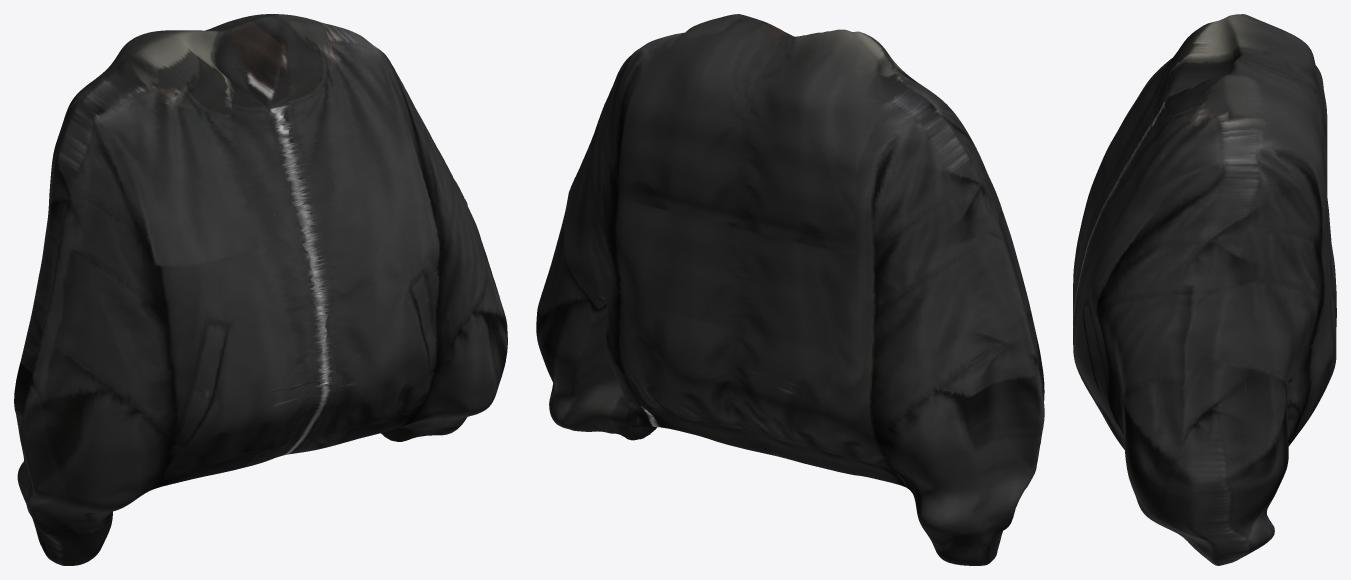
File: NF001-worn-v3.glb
3 views of the same model, side by side, from view 1: azimuth 30°, elevation 25°; view 2: azimuth 150°, elevation 25°; view 3: azimuth 270°, elevation 25° (orthographic). The views are drawn at different scales.
Parts seen in each view (by area): view 1: NF001_worn_photo_fitted; view 2: NF001_worn_photo_fitted; view 3: NF001_worn_photo_fitted.
Boxes of the visible parts, bbox=[...] form: NF001_worn_photo_fitted: bbox=[14, 14, 507, 565]; NF001_worn_photo_fitted: bbox=[536, 14, 1044, 565]; NF001_worn_photo_fitted: bbox=[1073, 14, 1336, 565].
Size of the model in its own units: 0.6247 by 0.6077 by 0.3157.
1 material, 1 textured.
